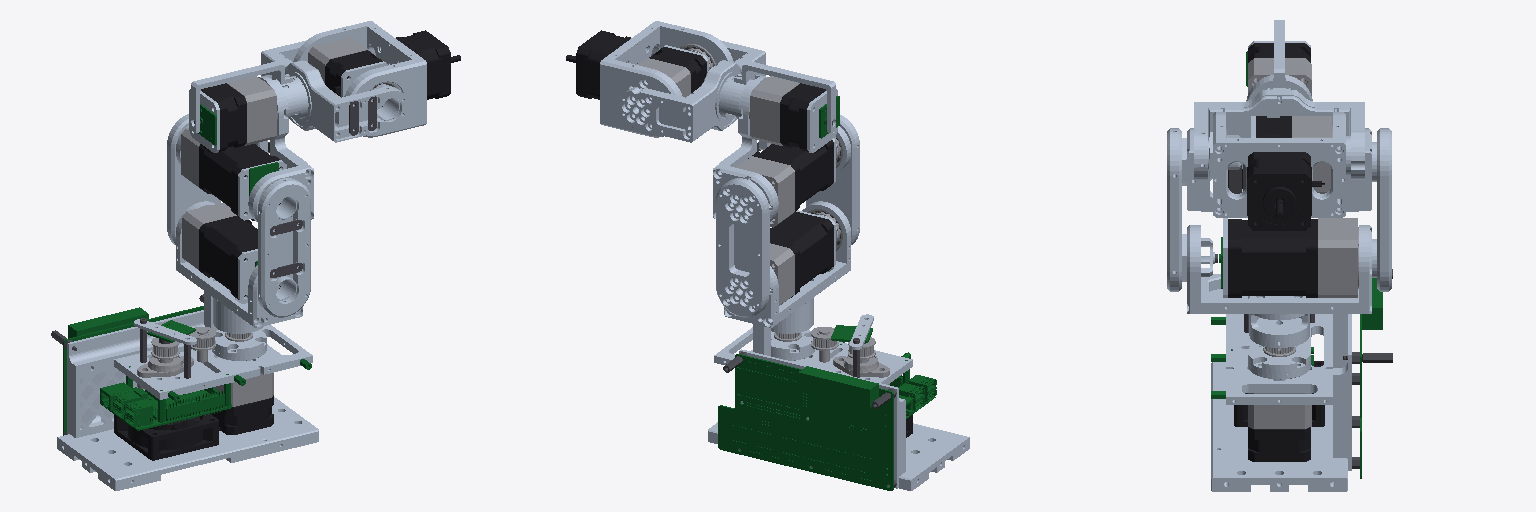
The robot description file, URDF, robot "hayley_v3":
<?xml version="1.0"?>
<!-- Project Hayley V3 (DIY-Robot-Arm-V3) - generated by digital_twin/cad_tools/make_urdf.py -->
<robot name="hayley_v3">
  <material name="structure"><color rgba="0.740 0.790 0.860 1.000"/></material>
  <material name="drive"><color rgba="0.620 0.630 0.660 1.000"/></material>
  <material name="motor"><color rgba="0.160 0.160 0.180 1.000"/></material>
  <material name="pcb"><color rgba="0.100 0.420 0.200 1.000"/></material>
  <material name="hardware"><color rgba="0.330 0.330 0.360 1.000"/></material>
  <link name="world"/>
  <joint name="world_fixed" type="fixed"><parent link="world"/><child link="base_link"/><origin xyz="0 0 0" rpy="0 0 0"/></joint>
  <link name="base_link">
    <inertial><origin xyz="-0.032640 0.009010 0.028887" rpy="0 0 0"/><mass value="1.6652"/><inertia ixx="1.066e-03" ixy="0" ixz="0" iyy="1.066e-03" iyz="0" izz="1.066e-03"/></inertial>
    <visual name="drive"><origin xyz="0 0 0" rpy="0 0 0"/><geometry><mesh filename="package://hayley_description/meshes/base_link_drive.stl" scale="0.001 0.001 0.001"/></geometry><material name="drive"/></visual>
    <collision><origin xyz="0 0 0" rpy="0 0 0"/><geometry><mesh filename="package://hayley_description/meshes/base_link_drive.stl" scale="0.001 0.001 0.001"/></geometry></collision>
    <visual name="hardware"><origin xyz="0 0 0" rpy="0 0 0"/><geometry><mesh filename="package://hayley_description/meshes/base_link_hardware.stl" scale="0.001 0.001 0.001"/></geometry><material name="hardware"/></visual>
    <visual name="motor"><origin xyz="0 0 0" rpy="0 0 0"/><geometry><mesh filename="package://hayley_description/meshes/base_link_motor.stl" scale="0.001 0.001 0.001"/></geometry><material name="motor"/></visual>
    <collision><origin xyz="0 0 0" rpy="0 0 0"/><geometry><mesh filename="package://hayley_description/meshes/base_link_motor.stl" scale="0.001 0.001 0.001"/></geometry></collision>
    <visual name="pcb"><origin xyz="0 0 0" rpy="0 0 0"/><geometry><mesh filename="package://hayley_description/meshes/base_link_pcb.stl" scale="0.001 0.001 0.001"/></geometry><material name="pcb"/></visual>
    <visual name="structure"><origin xyz="0 0 0" rpy="0 0 0"/><geometry><mesh filename="package://hayley_description/meshes/base_link_structure.stl" scale="0.001 0.001 0.001"/></geometry><material name="structure"/></visual>
    <collision><origin xyz="0 0 0" rpy="0 0 0"/><geometry><mesh filename="package://hayley_description/meshes/base_link_structure.stl" scale="0.001 0.001 0.001"/></geometry></collision>
  </link>
  <link name="link1">
    <inertial><origin xyz="0.000026 0.010713 0.077060" rpy="0 0 0"/><mass value="1.2144"/><inertia ixx="7.772e-04" ixy="0" ixz="0" iyy="7.772e-04" iyz="0" izz="7.772e-04"/></inertial>
    <visual name="drive"><origin xyz="0 0 0" rpy="0 0 0"/><geometry><mesh filename="package://hayley_description/meshes/link1_drive.stl" scale="0.001 0.001 0.001"/></geometry><material name="drive"/></visual>
    <collision><origin xyz="0 0 0" rpy="0 0 0"/><geometry><mesh filename="package://hayley_description/meshes/link1_drive.stl" scale="0.001 0.001 0.001"/></geometry></collision>
    <visual name="hardware"><origin xyz="0 0 0" rpy="0 0 0"/><geometry><mesh filename="package://hayley_description/meshes/link1_hardware.stl" scale="0.001 0.001 0.001"/></geometry><material name="hardware"/></visual>
    <visual name="motor"><origin xyz="0 0 0" rpy="0 0 0"/><geometry><mesh filename="package://hayley_description/meshes/link1_motor.stl" scale="0.001 0.001 0.001"/></geometry><material name="motor"/></visual>
    <collision><origin xyz="0 0 0" rpy="0 0 0"/><geometry><mesh filename="package://hayley_description/meshes/link1_motor.stl" scale="0.001 0.001 0.001"/></geometry></collision>
    <visual name="pcb"><origin xyz="0 0 0" rpy="0 0 0"/><geometry><mesh filename="package://hayley_description/meshes/link1_pcb.stl" scale="0.001 0.001 0.001"/></geometry><material name="pcb"/></visual>
    <visual name="structure"><origin xyz="0 0 0" rpy="0 0 0"/><geometry><mesh filename="package://hayley_description/meshes/link1_structure.stl" scale="0.001 0.001 0.001"/></geometry><material name="structure"/></visual>
    <collision><origin xyz="0 0 0" rpy="0 0 0"/><geometry><mesh filename="package://hayley_description/meshes/link1_structure.stl" scale="0.001 0.001 0.001"/></geometry></collision>
  </link>
  <link name="link2">
    <inertial><origin xyz="0.000000 -0.059288 0.035000" rpy="0 0 0"/><mass value="0.1795"/><inertia ixx="1.149e-04" ixy="0" ixz="0" iyy="1.149e-04" iyz="0" izz="1.149e-04"/></inertial>
    <visual name="hardware"><origin xyz="0 0 0" rpy="0 0 0"/><geometry><mesh filename="package://hayley_description/meshes/link2_hardware.stl" scale="0.001 0.001 0.001"/></geometry><material name="hardware"/></visual>
    <visual name="structure"><origin xyz="0 0 0" rpy="0 0 0"/><geometry><mesh filename="package://hayley_description/meshes/link2_structure.stl" scale="0.001 0.001 0.001"/></geometry><material name="structure"/></visual>
    <collision><origin xyz="0 0 0" rpy="0 0 0"/><geometry><mesh filename="package://hayley_description/meshes/link2_structure.stl" scale="0.001 0.001 0.001"/></geometry></collision>
  </link>
  <link name="link3">
    <inertial><origin xyz="0.001589 -0.053647 0.018665" rpy="0 0 0"/><mass value="1.7568"/><inertia ixx="1.124e-03" ixy="0" ixz="0" iyy="1.124e-03" iyz="0" izz="1.124e-03"/></inertial>
    <visual name="drive"><origin xyz="0 0 0" rpy="0 0 0"/><geometry><mesh filename="package://hayley_description/meshes/link3_drive.stl" scale="0.001 0.001 0.001"/></geometry><material name="drive"/></visual>
    <collision><origin xyz="0 0 0" rpy="0 0 0"/><geometry><mesh filename="package://hayley_description/meshes/link3_drive.stl" scale="0.001 0.001 0.001"/></geometry></collision>
    <visual name="hardware"><origin xyz="0 0 0" rpy="0 0 0"/><geometry><mesh filename="package://hayley_description/meshes/link3_hardware.stl" scale="0.001 0.001 0.001"/></geometry><material name="hardware"/></visual>
    <visual name="motor"><origin xyz="0 0 0" rpy="0 0 0"/><geometry><mesh filename="package://hayley_description/meshes/link3_motor.stl" scale="0.001 0.001 0.001"/></geometry><material name="motor"/></visual>
    <collision><origin xyz="0 0 0" rpy="0 0 0"/><geometry><mesh filename="package://hayley_description/meshes/link3_motor.stl" scale="0.001 0.001 0.001"/></geometry></collision>
    <visual name="pcb"><origin xyz="0 0 0" rpy="0 0 0"/><geometry><mesh filename="package://hayley_description/meshes/link3_pcb.stl" scale="0.001 0.001 0.001"/></geometry><material name="pcb"/></visual>
    <visual name="structure"><origin xyz="0 0 0" rpy="0 0 0"/><geometry><mesh filename="package://hayley_description/meshes/link3_structure.stl" scale="0.001 0.001 0.001"/></geometry><material name="structure"/></visual>
    <collision><origin xyz="0 0 0" rpy="0 0 0"/><geometry><mesh filename="package://hayley_description/meshes/link3_structure.stl" scale="0.001 0.001 0.001"/></geometry></collision>
  </link>
  <link name="link4">
    <inertial><origin xyz="0.035825 0.011016 0.000045" rpy="0 0 0"/><mass value="0.7715"/><inertia ixx="4.937e-04" ixy="0" ixz="0" iyy="4.937e-04" iyz="0" izz="4.937e-04"/></inertial>
    <visual name="drive"><origin xyz="0 0 0" rpy="0 0 0"/><geometry><mesh filename="package://hayley_description/meshes/link4_drive.stl" scale="0.001 0.001 0.001"/></geometry><material name="drive"/></visual>
    <collision><origin xyz="0 0 0" rpy="0 0 0"/><geometry><mesh filename="package://hayley_description/meshes/link4_drive.stl" scale="0.001 0.001 0.001"/></geometry></collision>
    <visual name="hardware"><origin xyz="0 0 0" rpy="0 0 0"/><geometry><mesh filename="package://hayley_description/meshes/link4_hardware.stl" scale="0.001 0.001 0.001"/></geometry><material name="hardware"/></visual>
    <visual name="motor"><origin xyz="0 0 0" rpy="0 0 0"/><geometry><mesh filename="package://hayley_description/meshes/link4_motor.stl" scale="0.001 0.001 0.001"/></geometry><material name="motor"/></visual>
    <collision><origin xyz="0 0 0" rpy="0 0 0"/><geometry><mesh filename="package://hayley_description/meshes/link4_motor.stl" scale="0.001 0.001 0.001"/></geometry></collision>
    <visual name="structure"><origin xyz="0 0 0" rpy="0 0 0"/><geometry><mesh filename="package://hayley_description/meshes/link4_structure.stl" scale="0.001 0.001 0.001"/></geometry><material name="structure"/></visual>
    <collision><origin xyz="0 0 0" rpy="0 0 0"/><geometry><mesh filename="package://hayley_description/meshes/link4_structure.stl" scale="0.001 0.001 0.001"/></geometry></collision>
  </link>
  <link name="link5">
    <inertial><origin xyz="0.035474 -0.001812 -0.000035" rpy="0 0 0"/><mass value="0.4583"/><inertia ixx="2.933e-04" ixy="0" ixz="0" iyy="2.933e-04" iyz="0" izz="2.933e-04"/></inertial>
    <visual name="drive"><origin xyz="0 0 0" rpy="0 0 0"/><geometry><mesh filename="package://hayley_description/meshes/link5_drive.stl" scale="0.001 0.001 0.001"/></geometry><material name="drive"/></visual>
    <collision><origin xyz="0 0 0" rpy="0 0 0"/><geometry><mesh filename="package://hayley_description/meshes/link5_drive.stl" scale="0.001 0.001 0.001"/></geometry></collision>
    <visual name="hardware"><origin xyz="0 0 0" rpy="0 0 0"/><geometry><mesh filename="package://hayley_description/meshes/link5_hardware.stl" scale="0.001 0.001 0.001"/></geometry><material name="hardware"/></visual>
    <visual name="motor"><origin xyz="0 0 0" rpy="0 0 0"/><geometry><mesh filename="package://hayley_description/meshes/link5_motor.stl" scale="0.001 0.001 0.001"/></geometry><material name="motor"/></visual>
    <collision><origin xyz="0 0 0" rpy="0 0 0"/><geometry><mesh filename="package://hayley_description/meshes/link5_motor.stl" scale="0.001 0.001 0.001"/></geometry></collision>
    <visual name="pcb"><origin xyz="0 0 0" rpy="0 0 0"/><geometry><mesh filename="package://hayley_description/meshes/link5_pcb.stl" scale="0.001 0.001 0.001"/></geometry><material name="pcb"/></visual>
    <visual name="structure"><origin xyz="0 0 0" rpy="0 0 0"/><geometry><mesh filename="package://hayley_description/meshes/link5_structure.stl" scale="0.001 0.001 0.001"/></geometry><material name="structure"/></visual>
    <collision><origin xyz="0 0 0" rpy="0 0 0"/><geometry><mesh filename="package://hayley_description/meshes/link5_structure.stl" scale="0.001 0.001 0.001"/></geometry></collision>
  </link>
  <link name="link6">
    <inertial><origin xyz="0.000000 0.000000 0.000000" rpy="0 0 0"/><mass value="0.0500"/><inertia ixx="3.200e-05" ixy="0" ixz="0" iyy="3.200e-05" iyz="0" izz="3.200e-05"/></inertial>
  </link>
  <joint name="joint1" type="revolute">
    <parent link="base_link"/><child link="link1"/>
    <origin xyz="0.000000 0.000000 0.054500" rpy="0 0 0"/>
    <axis xyz="0.0 0.0 1.0"/>
    <limit lower="-1.74533" upper="1.74533" effort="10" velocity="0.1309"/>
  </joint>
  <joint name="joint2" type="revolute">
    <parent link="link1"/><child link="link2"/>
    <origin xyz="0.000000 0.061000 0.084000" rpy="0 0 0"/>
    <axis xyz="0.0 -1.0 0.0"/>
    <limit lower="-1.57080" upper="1.57080" effort="10" velocity="0.1309"/>
  </joint>
  <joint name="joint3" type="revolute">
    <parent link="link2"/><child link="link3"/>
    <origin xyz="0.000000 0.000000 0.070000" rpy="0 0 0"/>
    <axis xyz="0.0 1.0 0.0"/>
    <limit lower="-1.57080" upper="1.57080" effort="10" velocity="0.1309"/>
  </joint>
  <joint name="joint4" type="revolute">
    <parent link="link3"/><child link="link4"/>
    <origin xyz="0.057000 -0.061000 0.052000" rpy="0 0 0"/>
    <axis xyz="1.0 0.0 0.0"/>
    <limit lower="-2.09440" upper="2.09440" effort="10" velocity="0.1309"/>
  </joint>
  <joint name="joint5" type="revolute">
    <parent link="link4"/><child link="link5"/>
    <origin xyz="0.044500 0.000000 0.000000" rpy="0 0 0"/>
    <axis xyz="0.0 1.0 0.0"/>
    <limit lower="-1.74533" upper="1.74533" effort="10" velocity="0.1309"/>
  </joint>
  <joint name="joint6" type="revolute">
    <parent link="link5"/><child link="link6"/>
    <origin xyz="0.093000 0.000000 0.000000" rpy="0 0 0"/>
    <axis xyz="1.0 0.0 0.0"/>
    <limit lower="-3.13985" upper="3.13985" effort="10" velocity="3.9270"/>
  </joint>
  <link name="tool0"/>
  <joint name="tool0_fixed" type="fixed"><parent link="link6"/><child link="tool0"/><origin xyz="0.000000 0.000000 0.000000" rpy="-0.000000 0.000000 0.000000"/></joint>
</robot>

--- Render facts (derived) ---
The picture shows the robot from 3 angles, left to right: view 1: azimuth 30°, elevation 25°; view 2: azimuth 150°, elevation 25°; view 3: azimuth 270°, elevation 25°; orthographic projection.
Model hayley_v3 with 9 links and 8 joints (6 revolute, 2 fixed), rooted at world, posed all joints at 0.
Visible links, largest first — view 1: base_link, link3, link1, link4, link2, link5; view 2: base_link, link3, link1, link2, link4, link5; view 3: base_link, link1, link5, link4, link3, link2.
Boxes of the visible links, x1,y1,x2,y2 form: base_link: (51,291,318,490); link3: (176,61,313,221); link1: (176,201,311,369); link4: (261,37,408,142); link2: (167,114,310,317); link5: (293,21,460,137); base_link: (708,314,969,490); link3: (713,61,850,227); link1: (724,201,850,360); link2: (716,115,859,317); link4: (618,40,765,142); link5: (566,21,733,137); base_link: (1211,269,1392,491); link1: (1187,218,1376,398); link5: (1208,112,1350,230); link4: (1194,89,1364,193); link3: (1187,20,1376,211); link2: (1167,128,1391,291).
Bounding box of the posed robot: 0.3295 × 0.1486 × 0.3032 m (x, y, z).
Meshes: 26 distinct files referenced, 26 mesh visuals loaded (26 binary STL).
